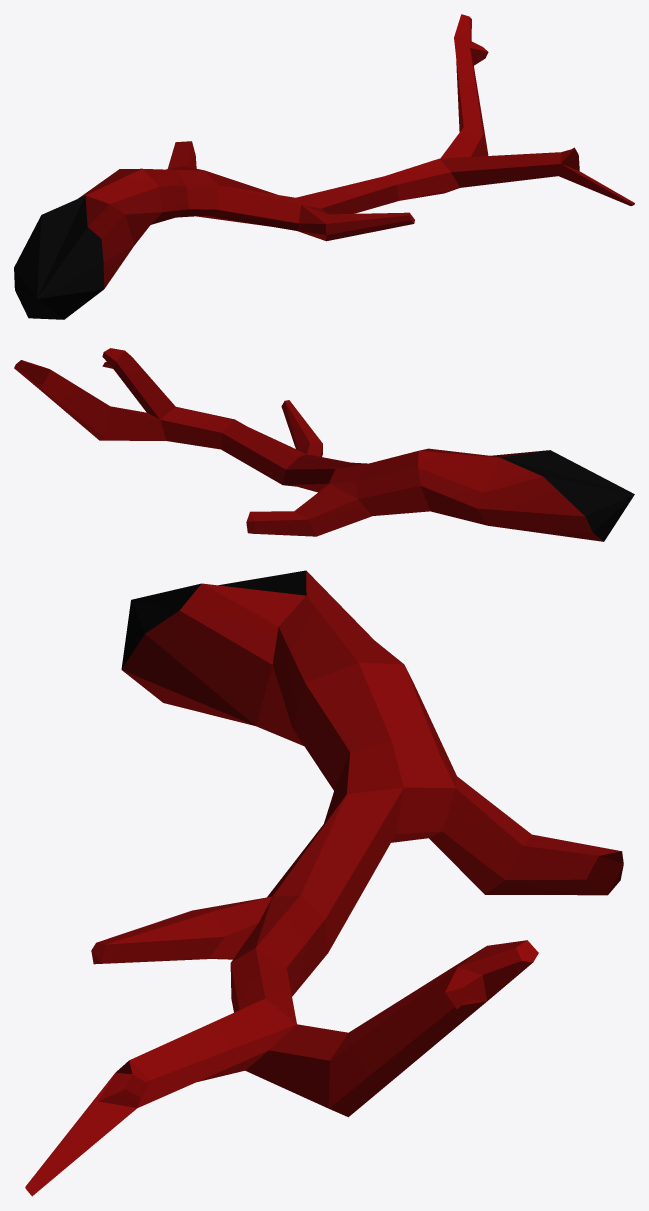
The model's file is SM_Env_DriftWood_03.glb.
3 renders of one model, top to bottom at view 1: azimuth 30°, elevation 25°; view 2: azimuth 150°, elevation 25°; view 3: azimuth 270°, elevation 25°, orthographic. The views are drawn at different scales.
Parts seen in each view (by area): view 1: SM_Env_DriftWood_03; view 2: SM_Env_DriftWood_03; view 3: SM_Env_DriftWood_03.
Part boxes in pixels (left/top/right/bottom): SM_Env_DriftWood_03: left=14, top=14, right=634, bottom=319; SM_Env_DriftWood_03: left=14, top=348, right=634, bottom=541; SM_Env_DriftWood_03: left=25, top=570, right=623, bottom=1196.
Size of the model in its own units: 3.27 by 0.6498 by 1.52.
